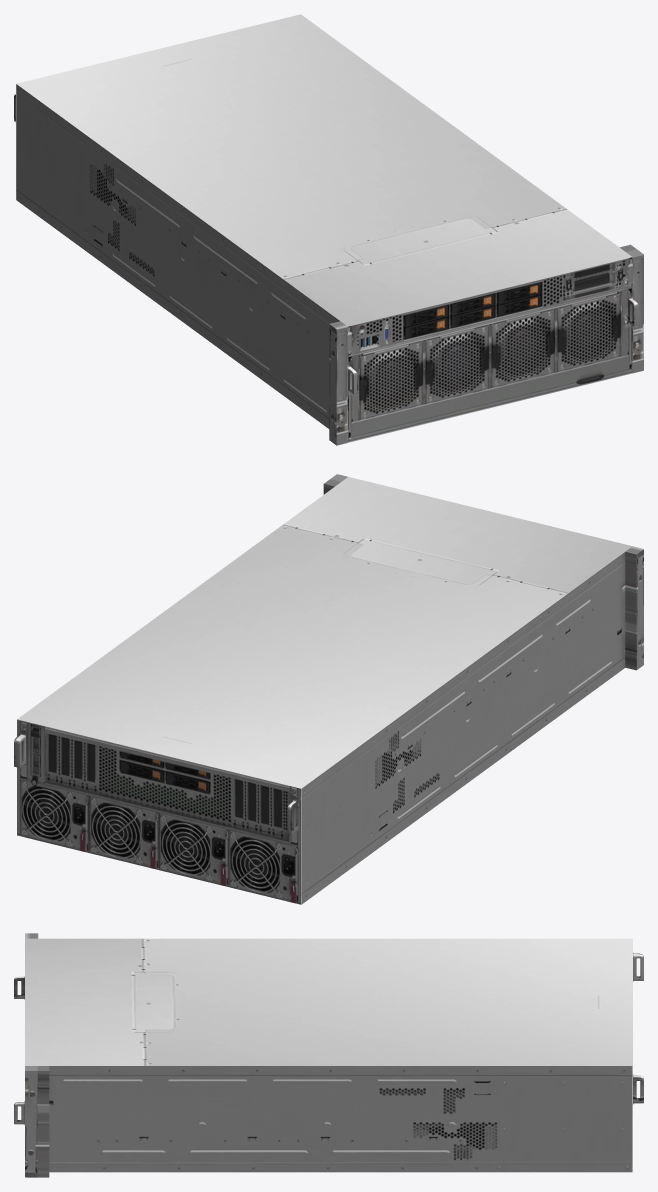
The model's file is asset.gltf.
3 renders of one model, top to bottom at view 1: azimuth 30°, elevation 25°; view 2: azimuth 150°, elevation 25°; view 3: azimuth 270°, elevation 25°, orthographic. The views are drawn at different scales.
Visible parts, largest first — view 1: Box001; view 2: Box001; view 3: Box001.
Boxes of the visible parts, left/top/right/bottom form: Box001: left=14, top=14, right=643, bottom=445; Box001: left=14, top=474, right=643, bottom=904; Box001: left=14, top=933, right=643, bottom=1177.
Size of the model in its own units: 0.4812 by 0.174 by 0.9322.
1 material, 1 textured.
